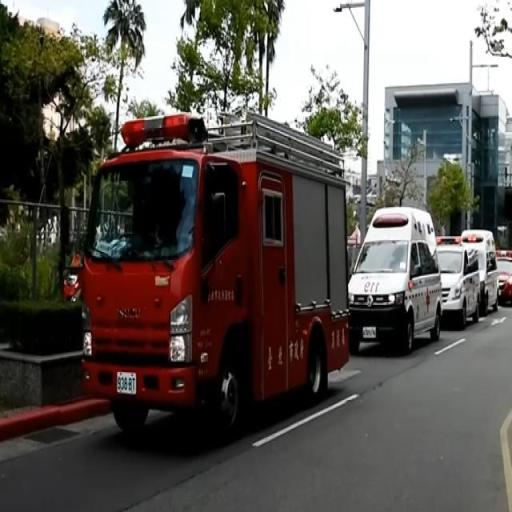fire truck: (65, 112, 349, 435)
